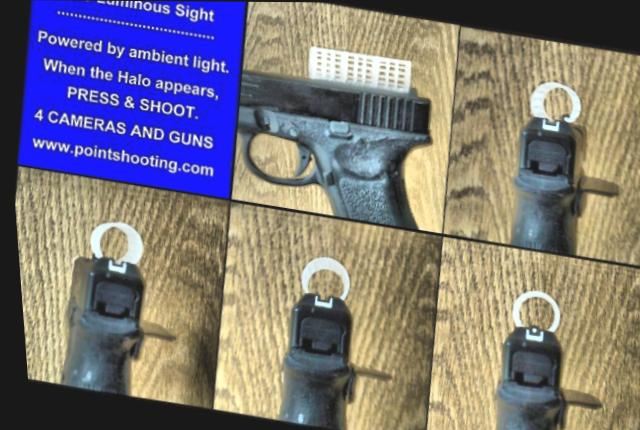pistol: (221, 67, 442, 227), (495, 106, 627, 259), (44, 245, 175, 399), (262, 283, 399, 430), (471, 317, 609, 430)
